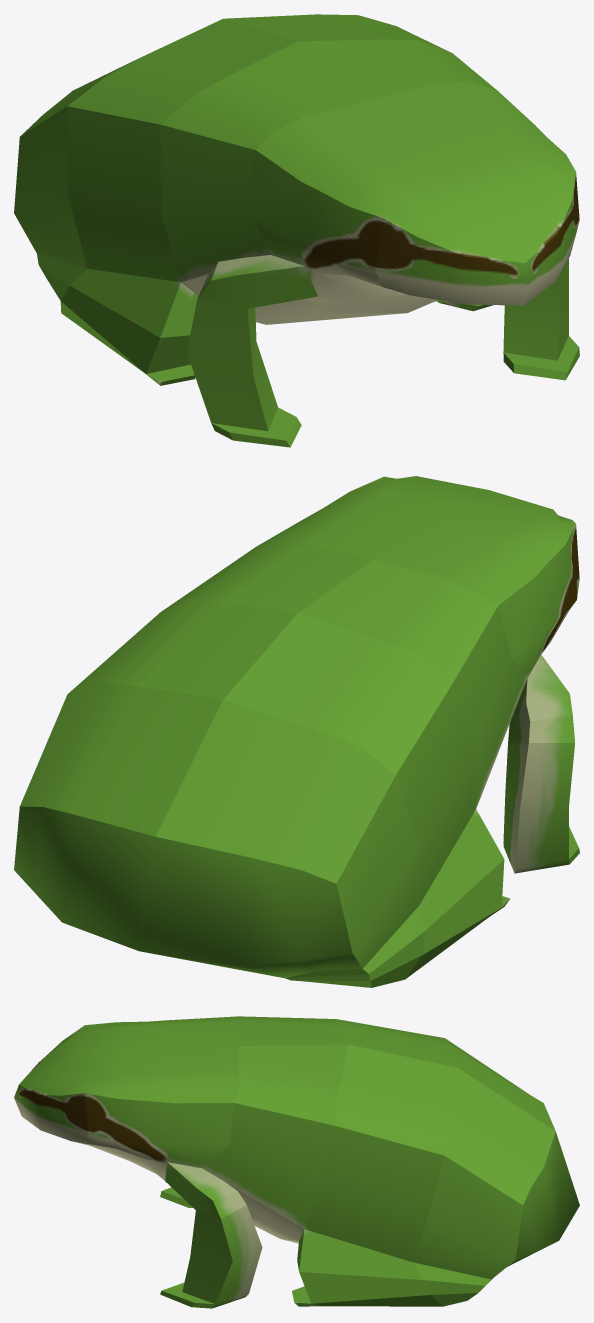
The model's file is frog.fbx.
3 renders of one model, top to bottom at view 1: azimuth 30°, elevation 25°; view 2: azimuth 150°, elevation 25°; view 3: azimuth 270°, elevation 25°, orthographic. The views are drawn at different scales.
Parts seen in each view (by area): view 1: frog; view 2: frog; view 3: frog.
Boxes of the visible parts, bbox=[...] form: frog: bbox=[14, 14, 579, 447]; frog: bbox=[14, 476, 579, 987]; frog: bbox=[14, 1016, 579, 1308].
Bounding box in the file's own units: 1.66 × 1.15 × 2.94.
